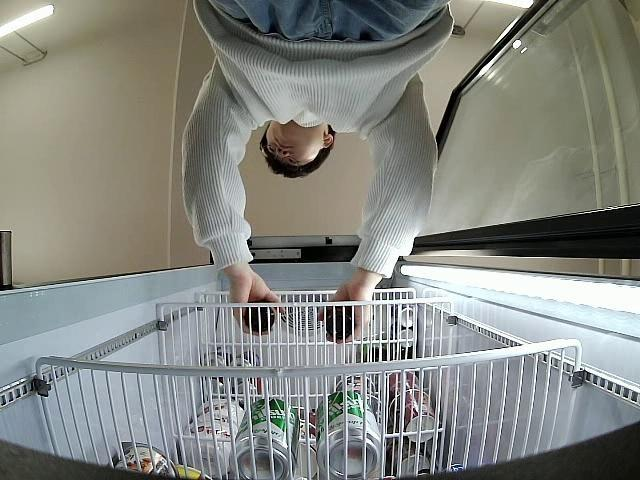17_vita500: (246, 300, 277, 336), (324, 306, 355, 340)
